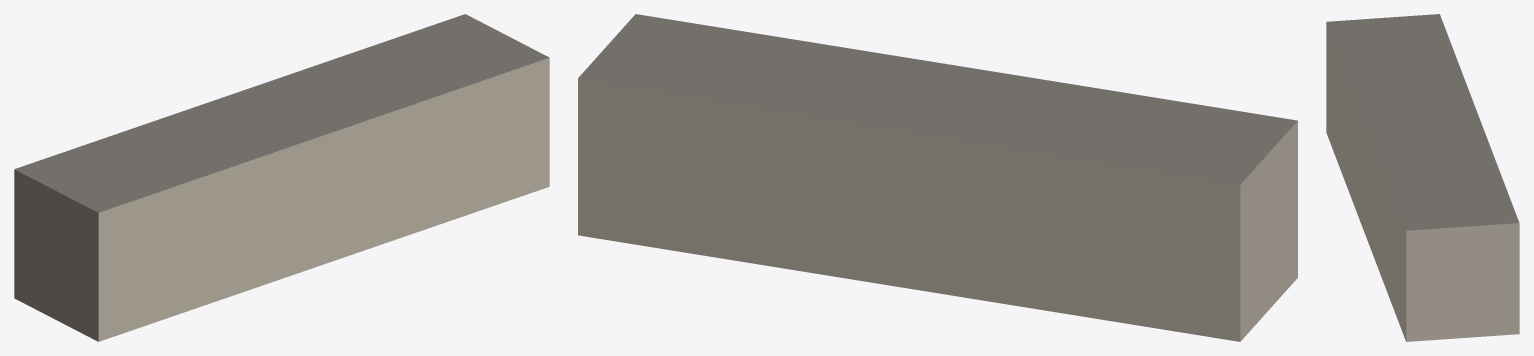
3 views of the same model, side by side, from view 1: azimuth 30°, elevation 25°; view 2: azimuth 150°, elevation 25°; view 3: azimuth 270°, elevation 25° (orthographic). The views are drawn at different scales.
Parts seen in each view (by area): view 1: HP-w859488719; view 2: HP-w859488719; view 3: HP-w859488719.
Boxes of the visible parts, x1,y1,x2,y2 form: HP-w859488719: (14, 14, 549, 341); HP-w859488719: (578, 14, 1297, 341); HP-w859488719: (1326, 14, 1519, 341).
Bounding box in the file's own units: 75.29 × 18 × 28.33.
